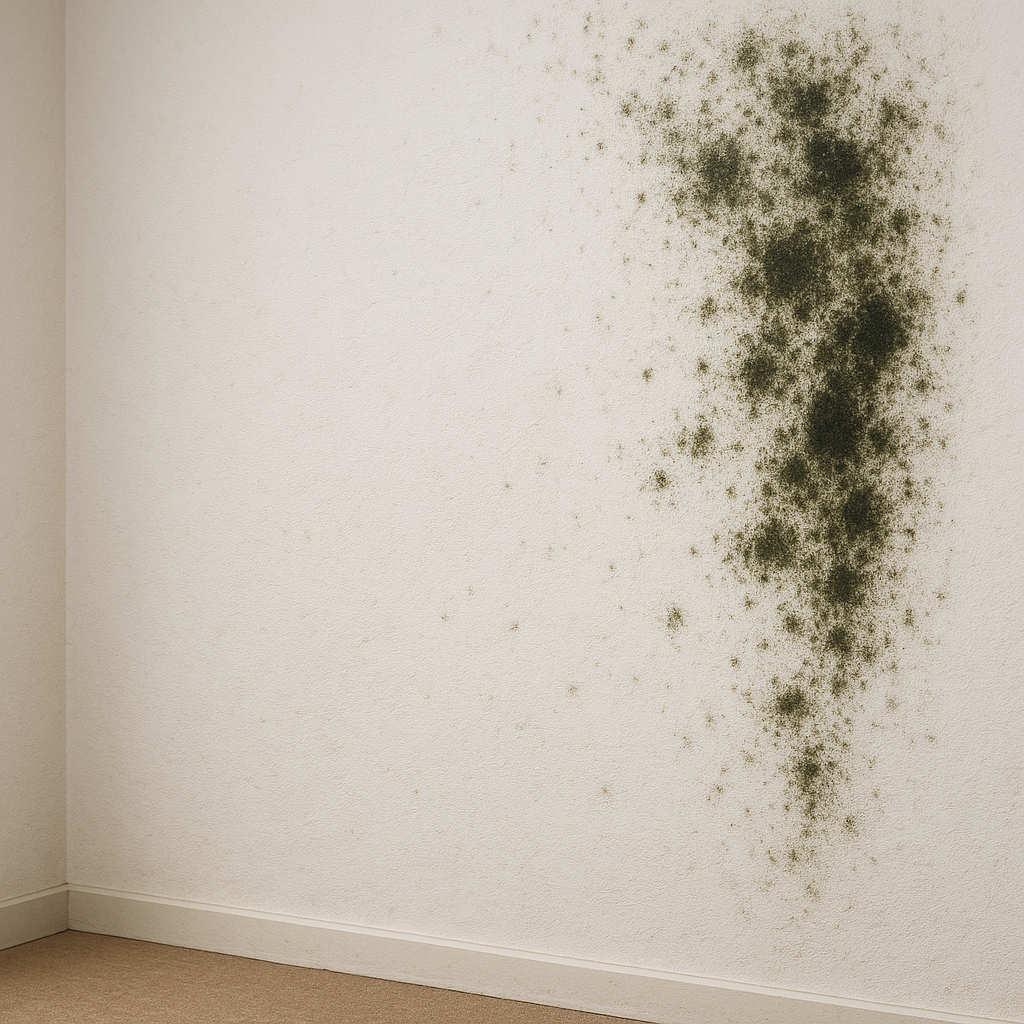schimmel: (796, 52, 900, 655), (694, 104, 795, 338), (770, 676, 841, 812), (722, 463, 800, 572), (709, 350, 784, 393)
